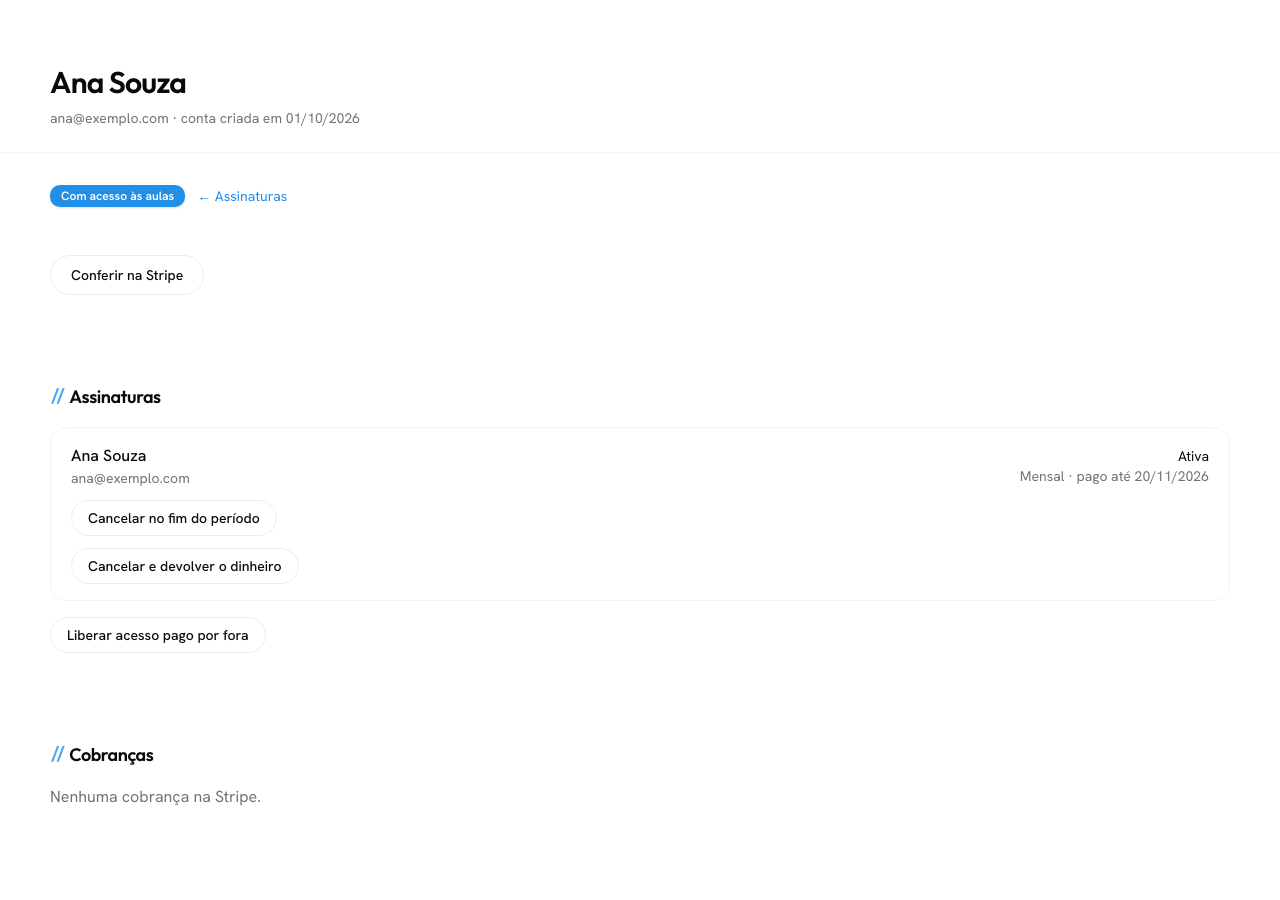
Test: a ficha — as ações (passo 3a) › 'Voltar' desiste sem fazer nada
This screenshot has width=1280, height=900.
What coordinates should you click on to do the following:
click the button "Cancelar no fim do período"
I would click on:
 (174, 518)
Its box is [71,500,277,536].
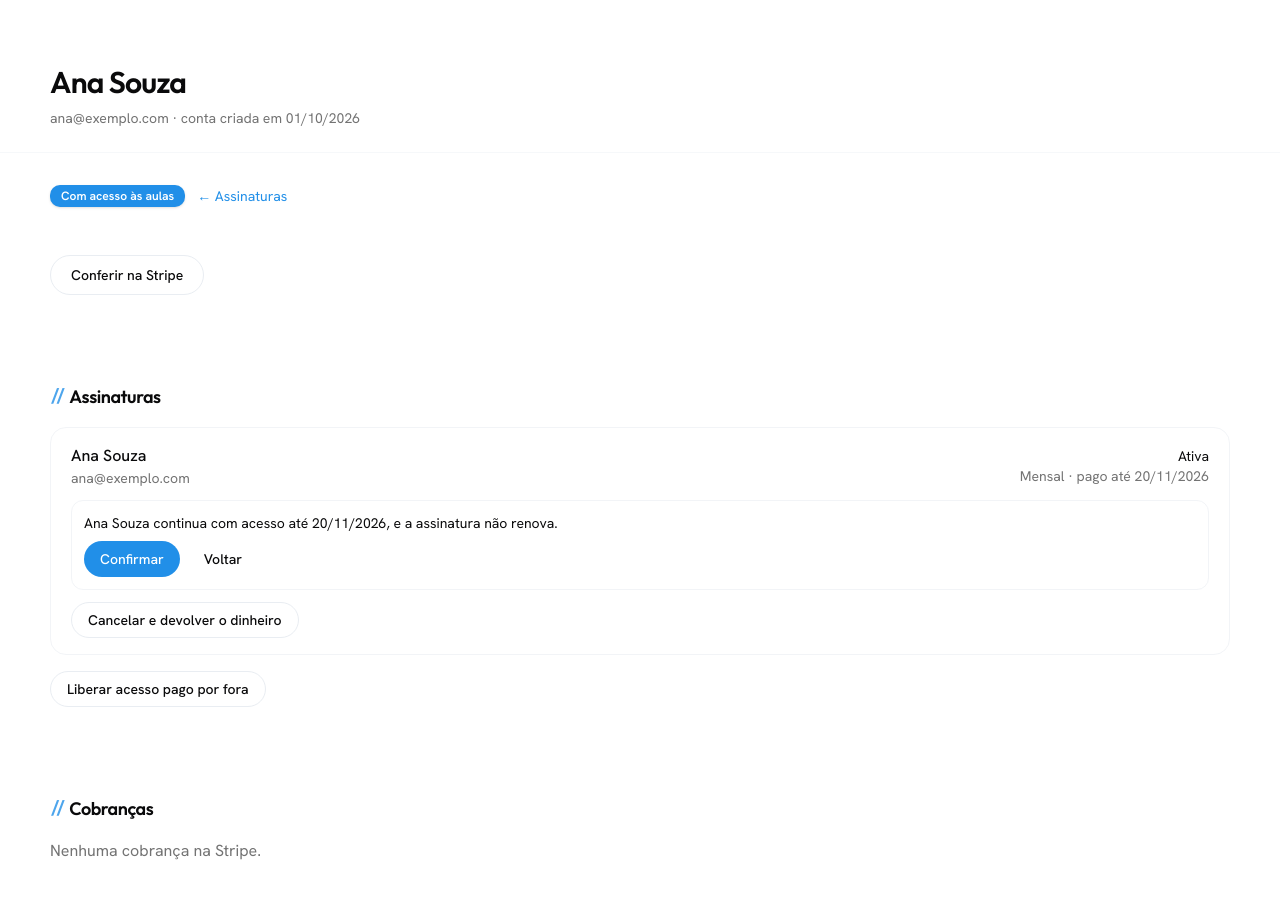
What coordinates should you click on to do the following:
click the button "Voltar"
I would click on:
 (223, 559)
Its box is [188,541,258,577].
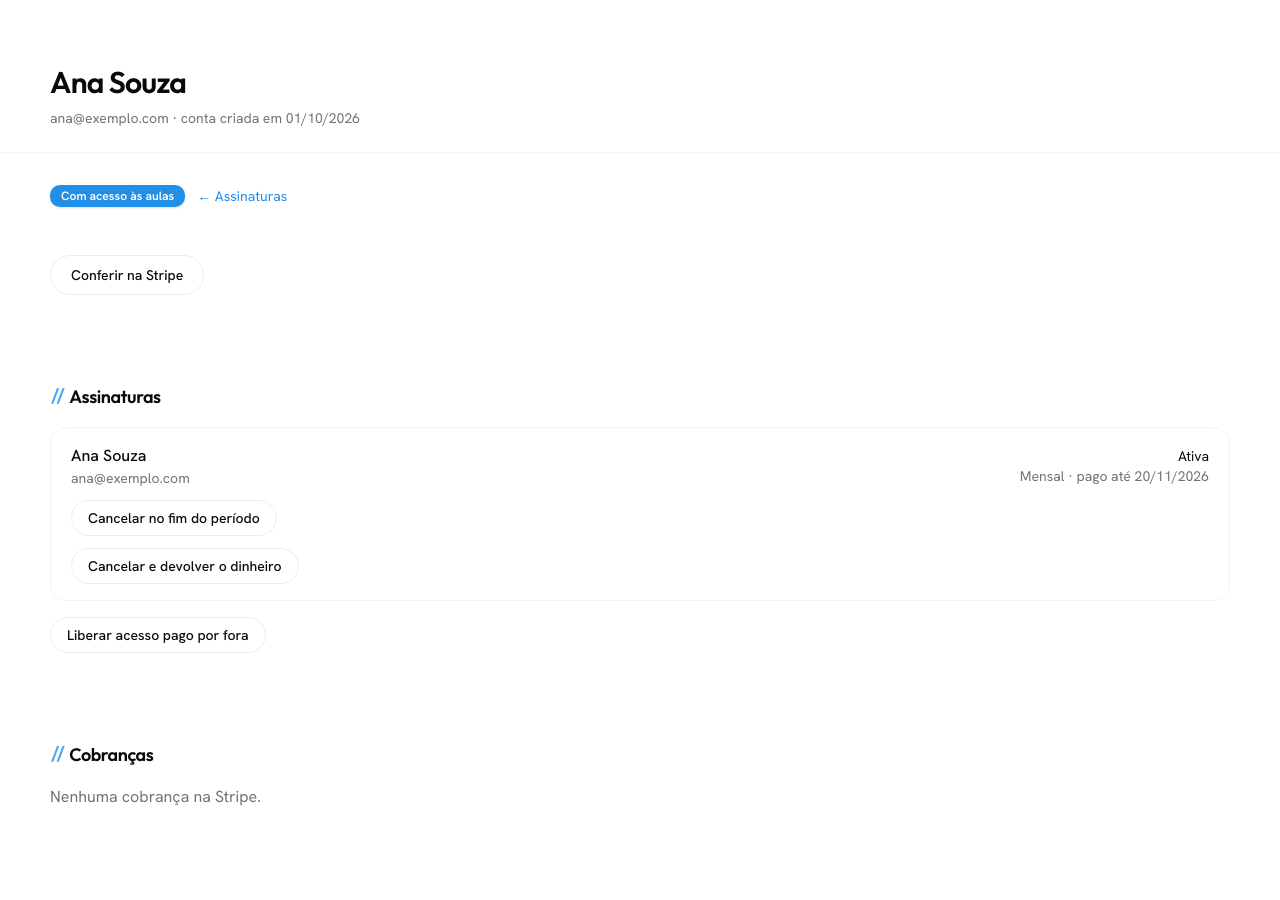
Expected: the button "Cancelar no fim do período" is shown, [71,500,277,536]
